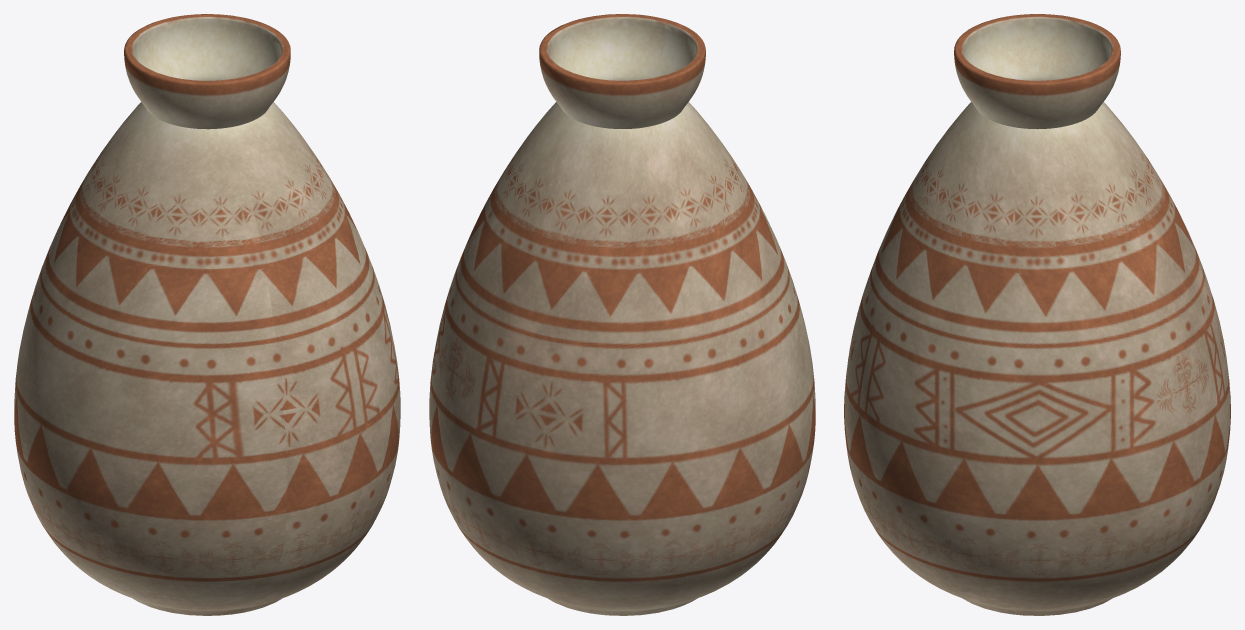
File: vase.fbx
3 views of the same model, side by side, from view 1: azimuth 30°, elevation 25°; view 2: azimuth 150°, elevation 25°; view 3: azimuth 270°, elevation 25° (orthographic).
Parts seen in each view (by area): view 1: Vase; view 2: Vase; view 3: Vase.
Boxes of the visible parts, x1,y1,x2,y2 form: Vase: (14,14,400,615); Vase: (429,14,815,615); Vase: (844,14,1230,615).
Size of the model in its own units: 324 by 492 by 324.
